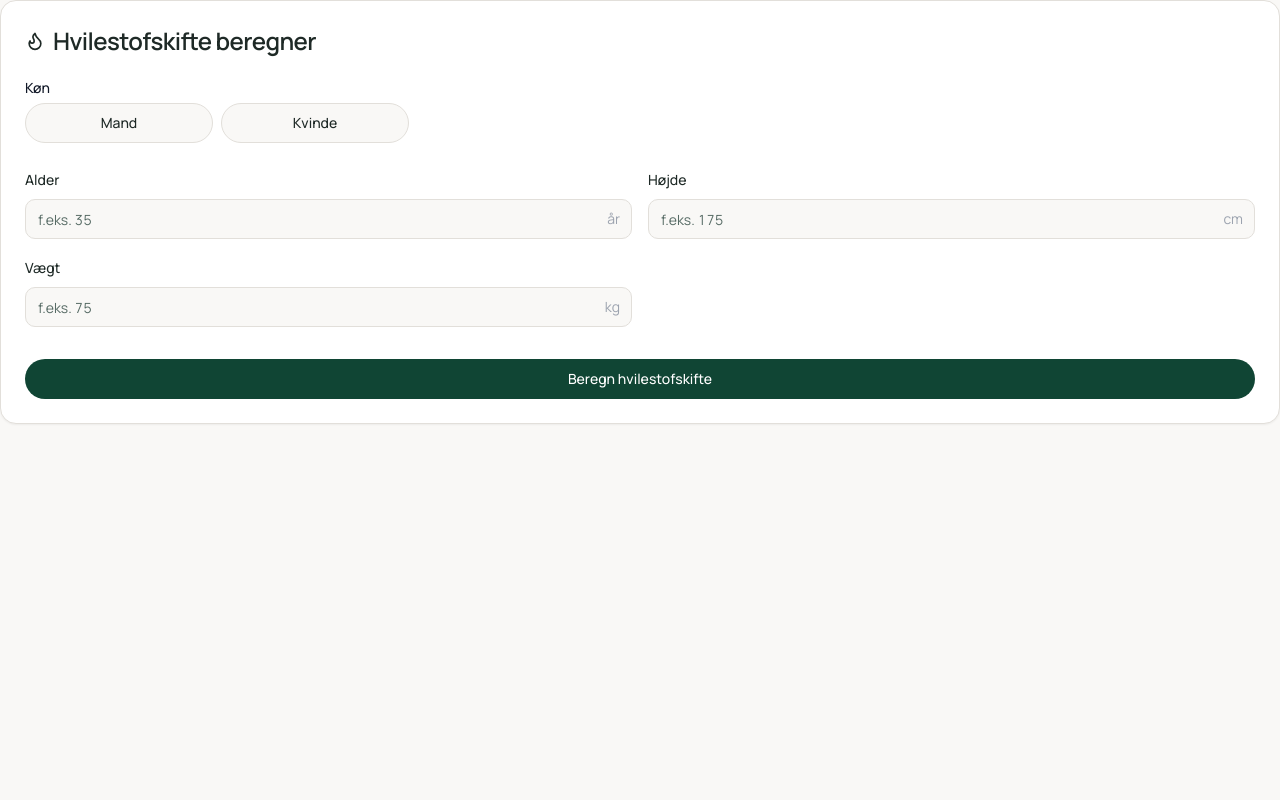
RestingMetabolicRateCalculator › keeps the decimals the visitor typed in that summary
Click the button "Kvinde": (315, 123) [221,103,409,143]
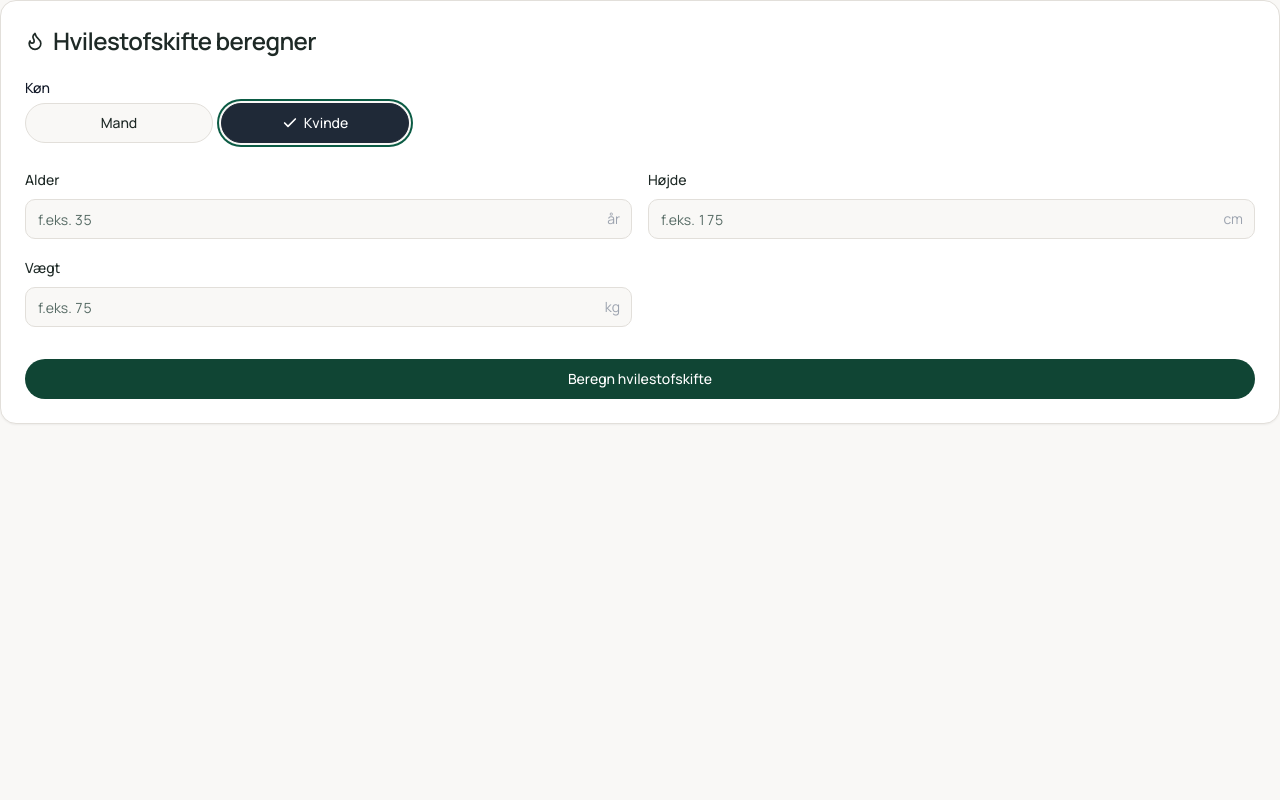
In the field labelled "Alder": (328, 219) [25,199,632,239], type "42"
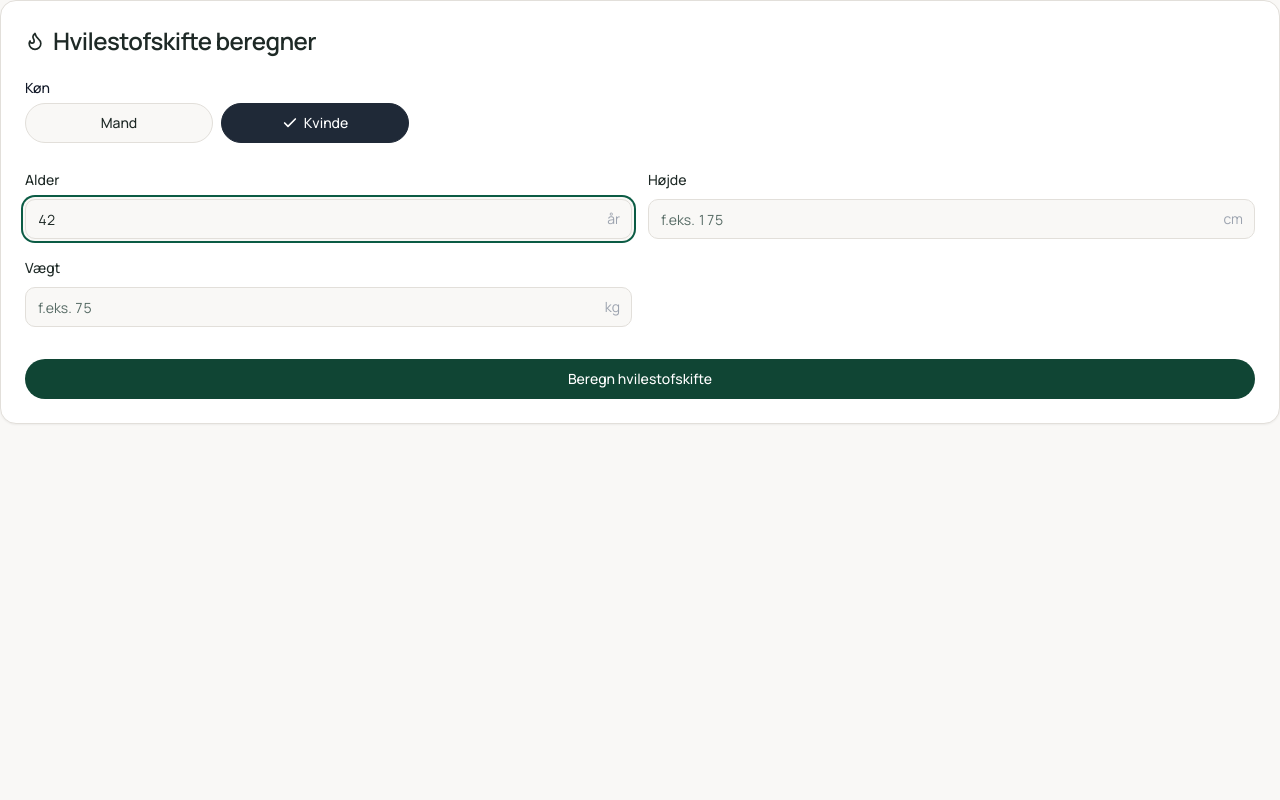
In the field labelled "Højde": (952, 219) [648,199,1255,239], type "167,5"
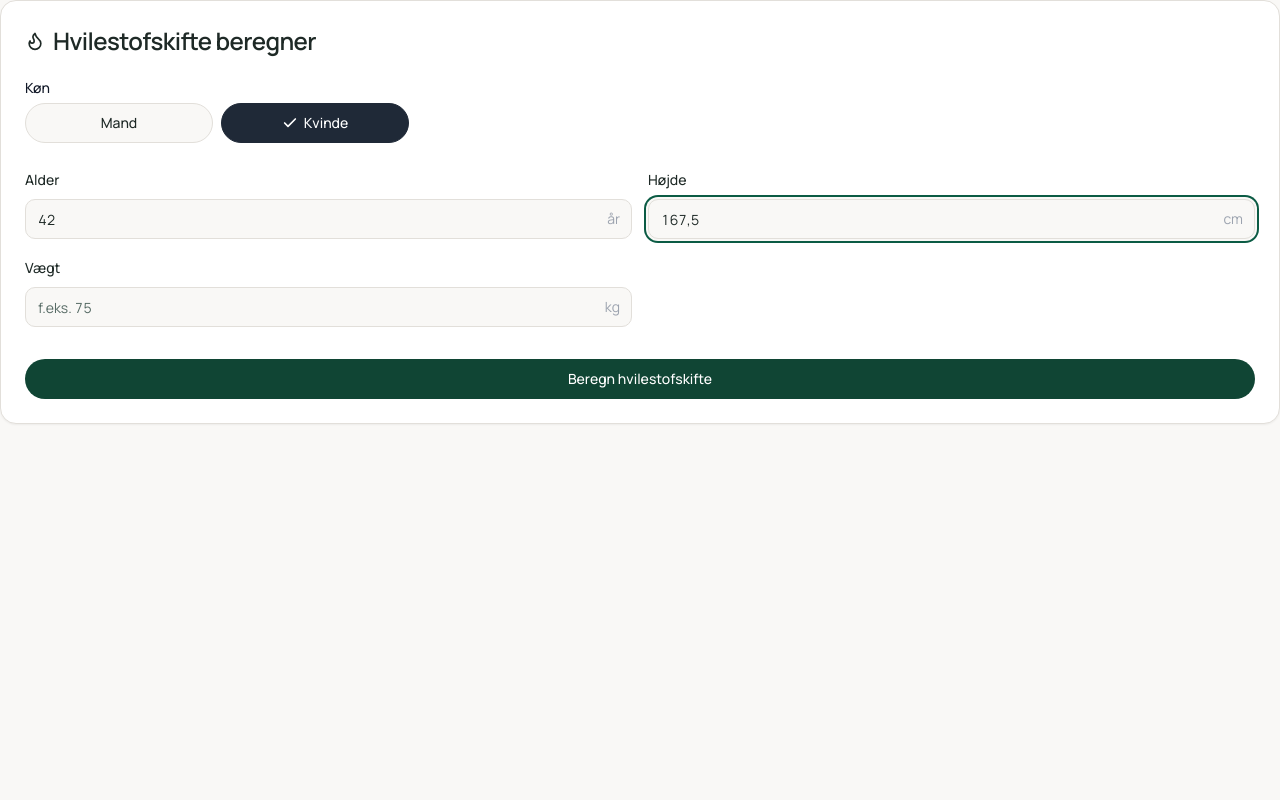
In the field labelled "Vægt": (328, 307) [25,287,632,327], type "62,4"
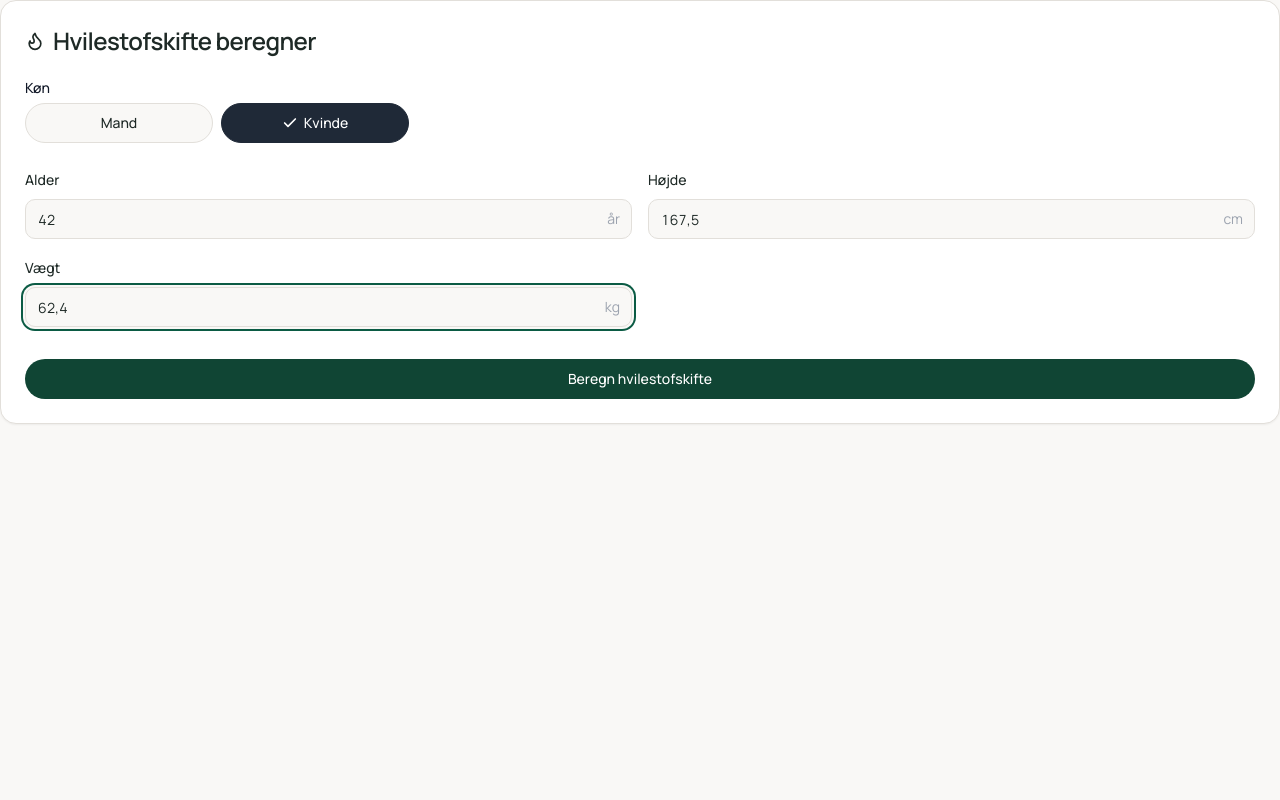
Click the button "Beregn hvilestofskifte": (640, 379) [25,359,1255,399]
(page scrolled)
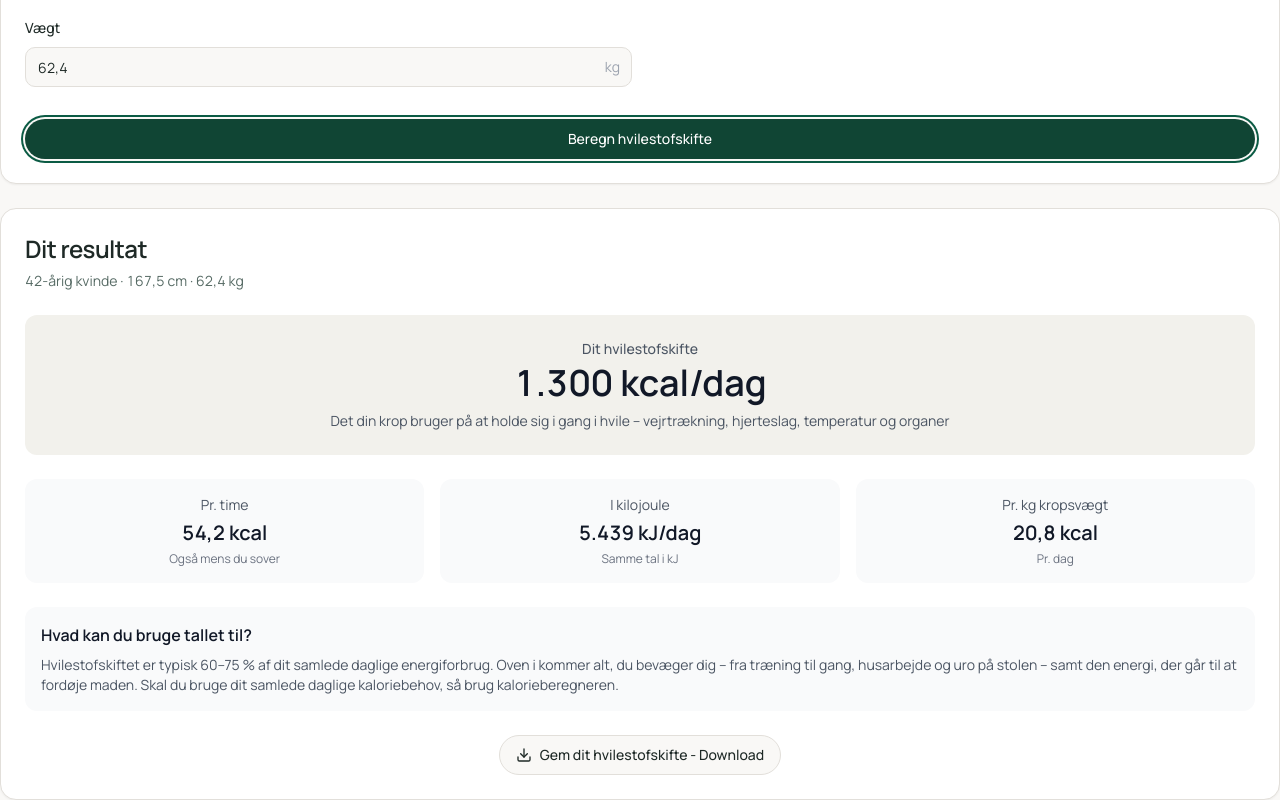
expect the text "42-årig kvinde · 167,5 cm · 62,4 kg" is shown: met, box [25,271,244,290]
